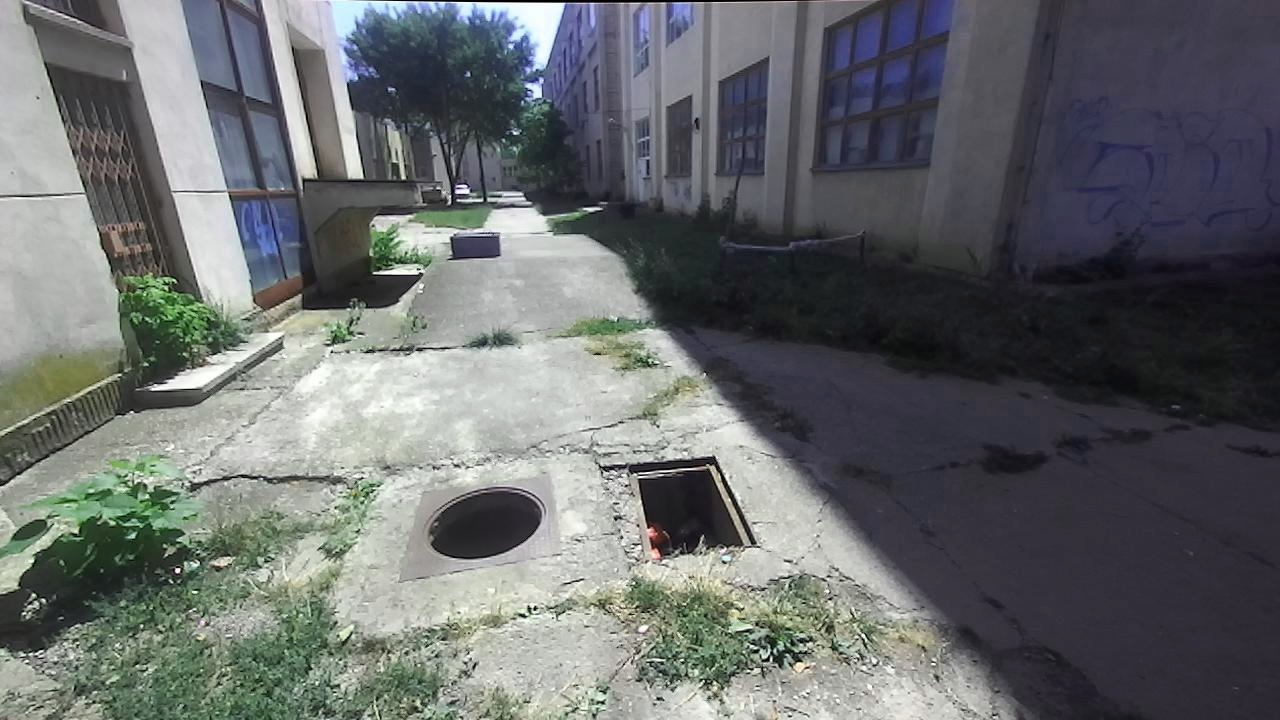drain: (605, 452, 765, 555), (424, 483, 544, 558)
